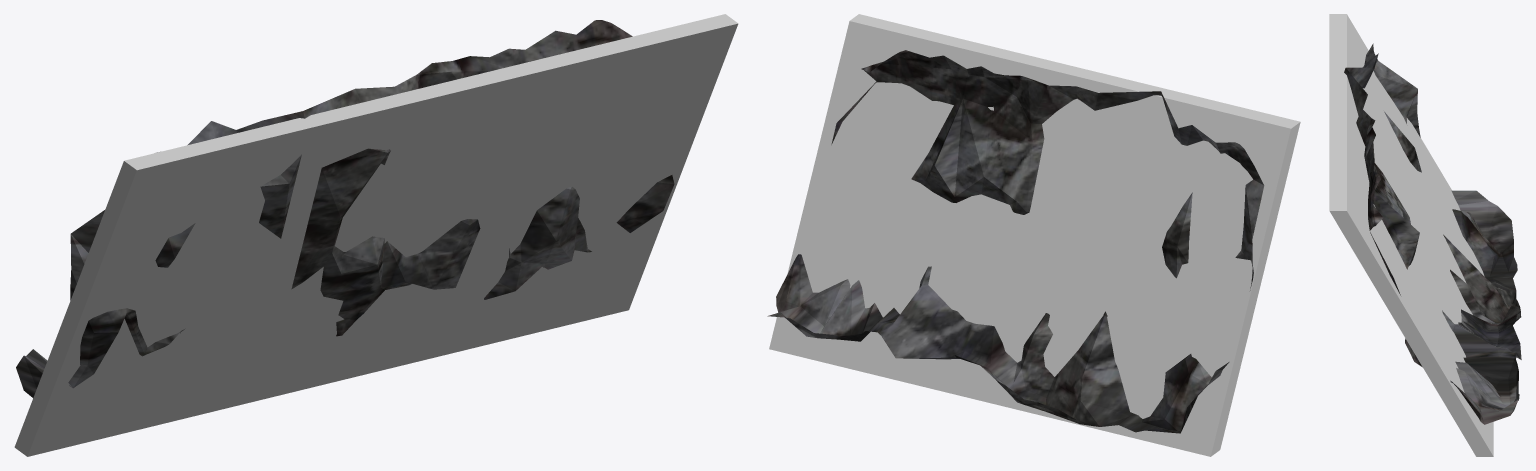
Rendered from Cave Wall 4.fbx.
3 renders of one model, left to right at view 1: azimuth 30°, elevation 25°; view 2: azimuth 150°, elevation 25°; view 3: azimuth 270°, elevation 25°, orthographic. The views are drawn at different scales.
Parts seen in each view (by area): view 1: Cube.004, Cave Wall 4; view 2: Cube.004, Cave Wall 4; view 3: Cube.004, Cave Wall 4.
Boxes of the visible parts, x1,y1,x2,y2 form: Cube.004: [14, 14, 738, 456]; Cave Wall 4: [16, 20, 674, 397]; Cube.004: [769, 14, 1300, 456]; Cave Wall 4: [767, 50, 1264, 433]; Cube.004: [1329, 14, 1493, 456]; Cave Wall 4: [1344, 43, 1521, 424].
Bounding box in the file's own units: 2185 × 1296 × 901.
1 material, 1 textured.
